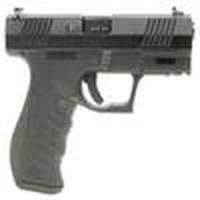gun: (3, 8, 199, 194)
